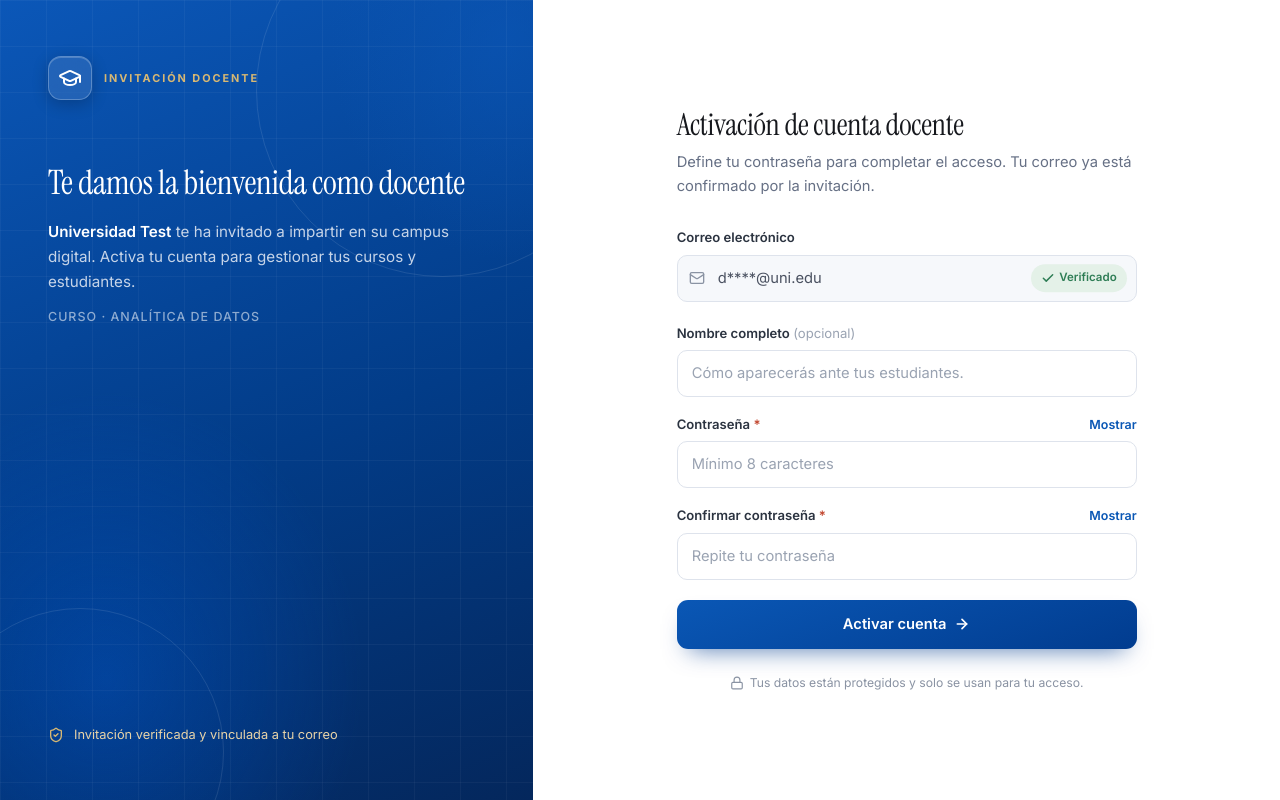
Test: TeacherActivatePage › shows the match indicator when both passwords are equal
The width and height of the screenshot is (1280, 800).
Expected: the button "Activar cuenta" is shown, [677,600,1137,649]
In the password field labelled "Contraseña *": (907, 465) [677,441,1137,488], type "Password123!"
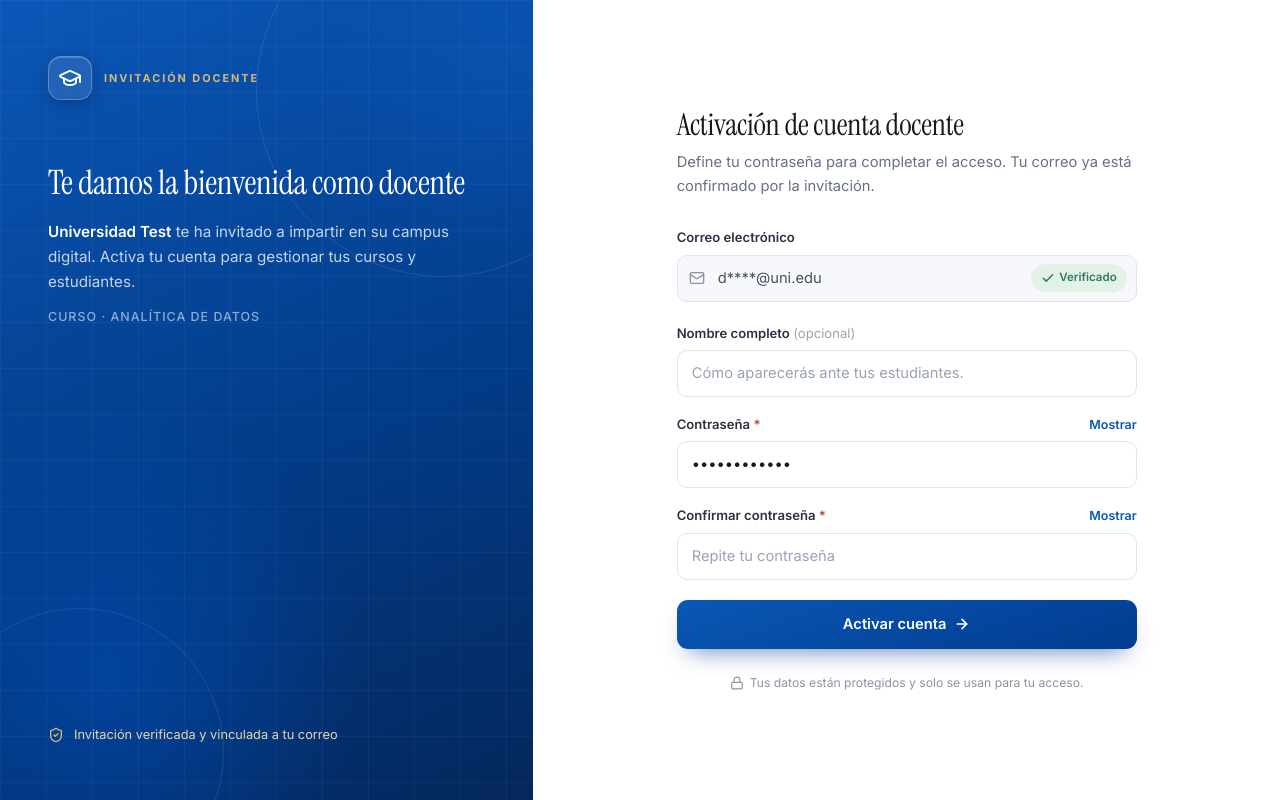
In the password field labelled "Confirmar contraseña *": (907, 556) [677,533,1137,580], type "Password123!"
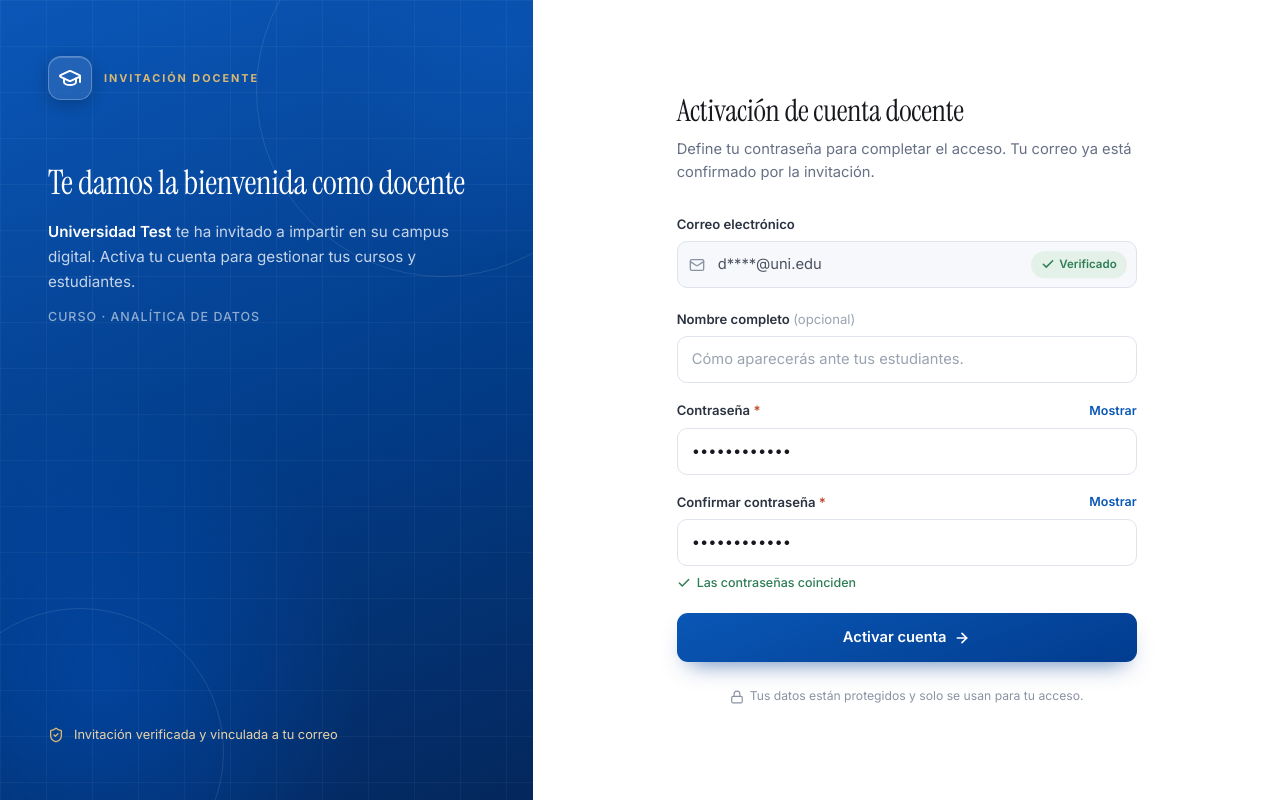
Expected: the text "Las contraseñas coinciden" is shown, [677,575,856,590]
